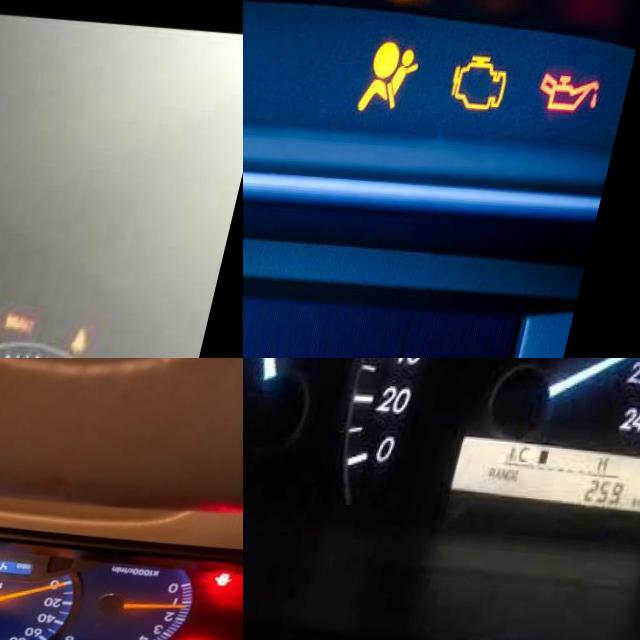Seat Belt: (87, 317, 108, 345)
